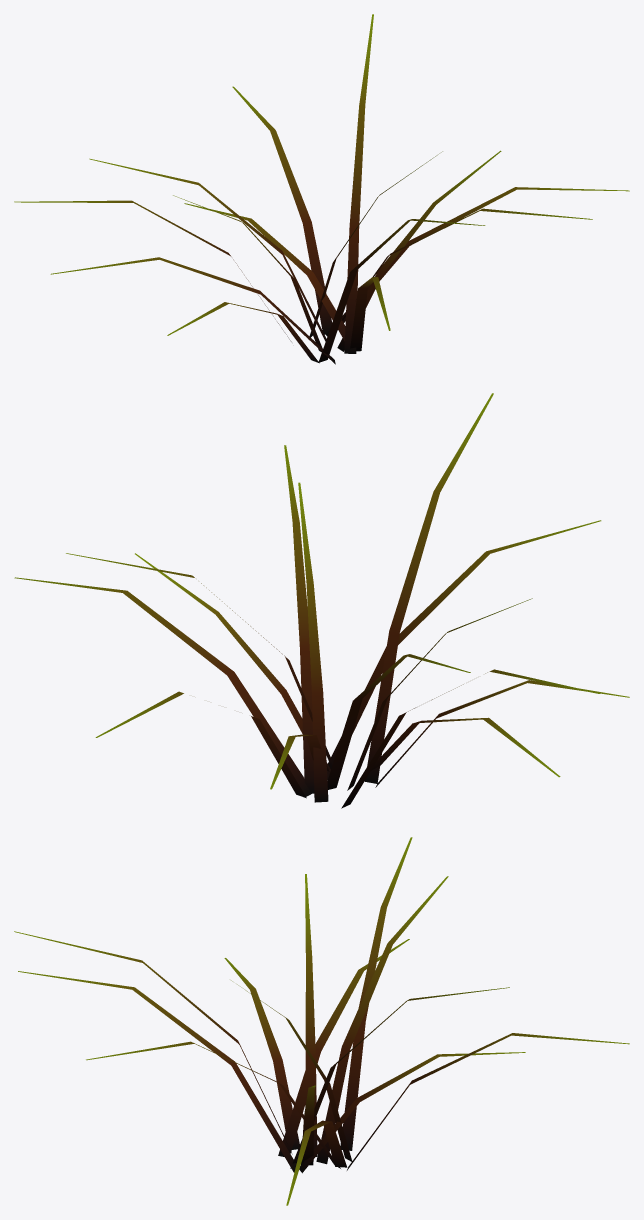
File: rice_a.glb
3 renders of one model, top to bottom at view 1: azimuth 30°, elevation 25°; view 2: azimuth 150°, elevation 25°; view 3: azimuth 270°, elevation 25°, orthographic. The views are drawn at different scales.
Visible parts, largest first — view 1: rice_a; view 2: rice_a; view 3: rice_a.
Boxes of the visible parts, x1,y1,x2,y2 form: rice_a: (14, 14, 629, 364); rice_a: (14, 393, 629, 808); rice_a: (14, 837, 629, 1205).
Bounding box in the file's own units: 1.21 × 0.4835 × 1.11.
Materials: 1 (1 with a texture image).
